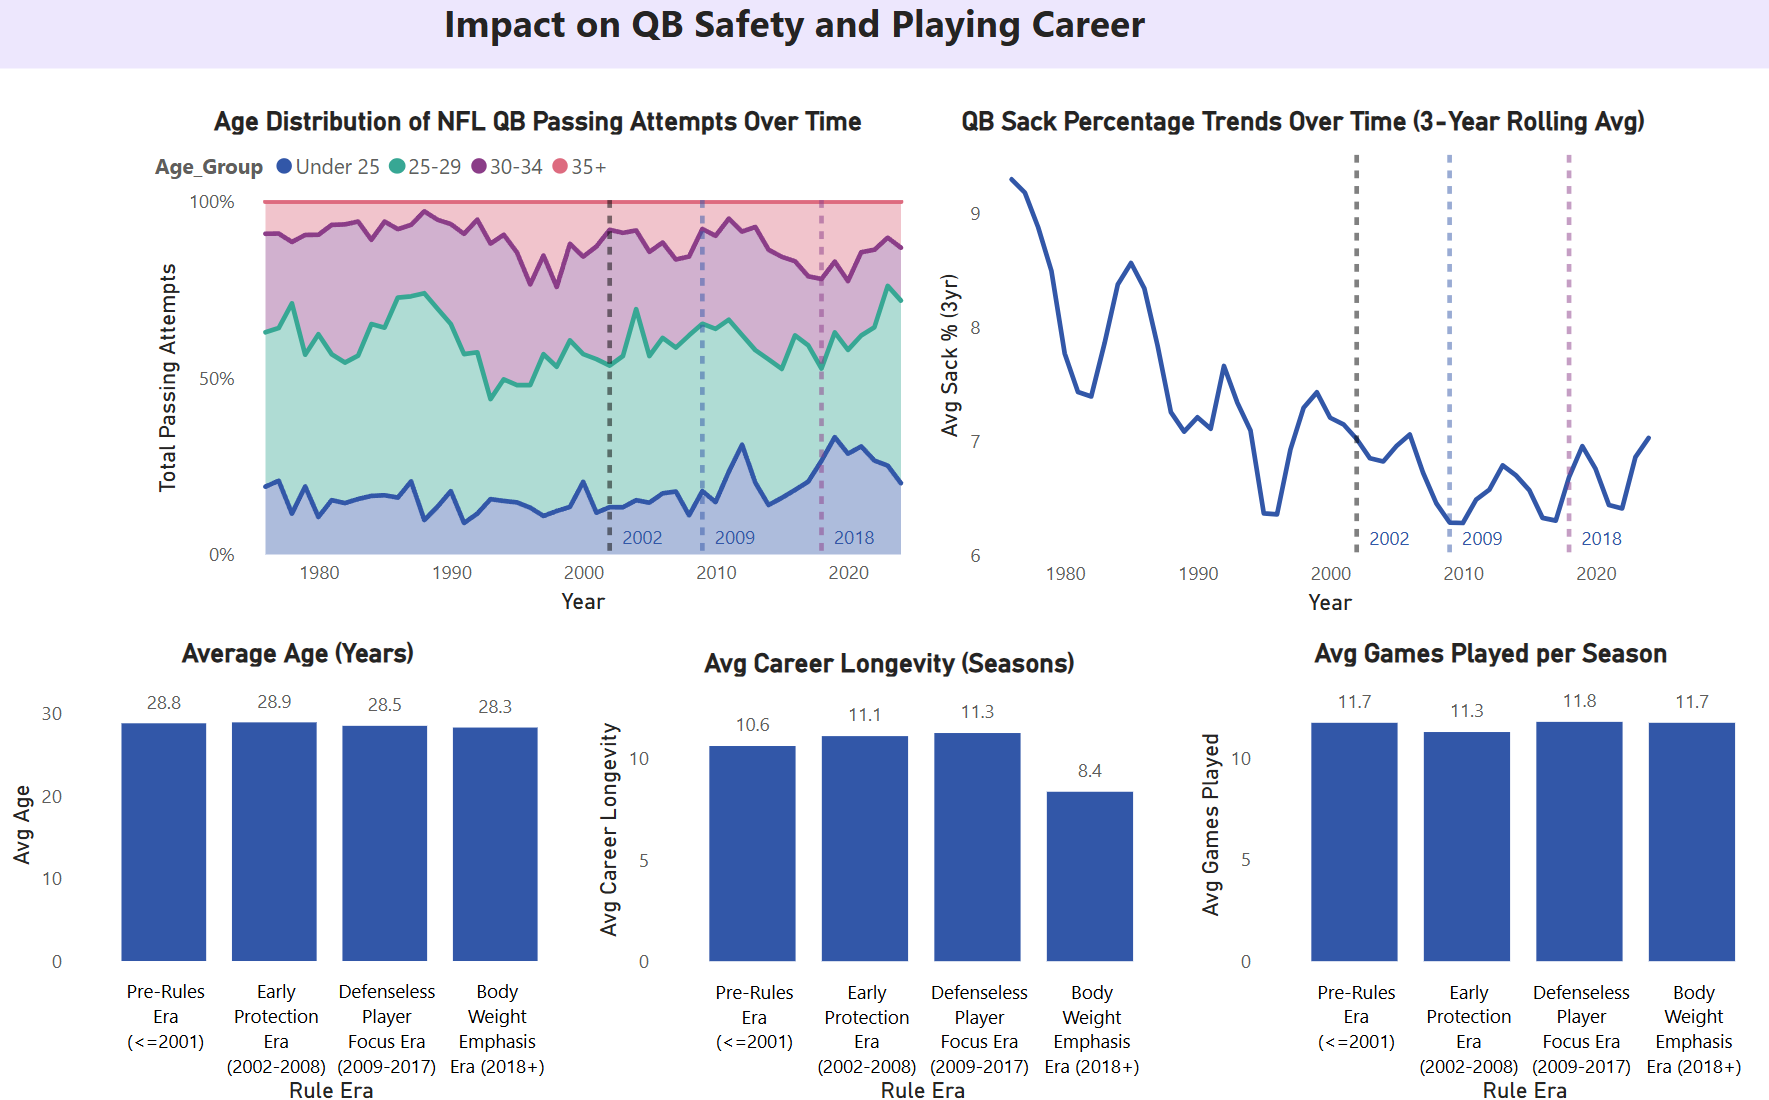

The page's visual inventory and layout, read from the dashboard file:
{"tool":"powerbi","page":{"name":"Safety & Longevity Deep Dive","canvas":[1280,720],"ordinal":4},"visuals":[{"type":"lineChart","title":"QB Sack Percentage Trends Over Time (3-Year Rolling Avg)","fields":{"Y":["pass_cleaned.Rolling 3yr Avg Sack %"],"Category":["pass_cleaned.Year"]},"box":[214.9,388.2,479.9,331.7],"z":0},{"type":"hundredPercentStackedAreaChart","title":"Age Distribution of NFL QB Passing Attempts Over Time","fields":{"Category":["pass_cleaned.Year"],"Y":["pass_cleaned.Total Passing Attempts"],"Series":["pass_cleaned.Age_Group"]},"box":[707.7,388.2,501.7,331.7],"z":1000},{"type":"slicer","fields":{"Values":["pass_cleaned.Age_Group"]},"box":[6.4,118.1,130.9,69.9],"z":2000},{"type":"clusteredColumnChart","title":"Average Age (Years)","fields":{"Category":["pass_cleaned.Rule_Era"],"Y":["pass_cleaned.Avg Age"]},"box":[150.1,66.7,376.6,297.7],"z":3000},{"type":"clusteredColumnChart","title":"Avg Career Longevity (Seasons)","fields":{"Category":["pass_cleaned.Rule_Era"],"Y":["pass_cleaned.Avg Career Longevity"]},"box":[526.8,66.7,376.6,297.7],"z":4000},{"type":"clusteredColumnChart","title":"Avg Games Played per Season","fields":{"Category":["pass_cleaned.Rule_Era"],"Y":["pass_cleaned.Avg Games Played"]},"box":[903.4,62.2,376.6,297.7],"z":5000},{"type":"textbox","box":[0,0,1280,50.7],"z":6000}]}

Visuals, with their boxes on the page's 1280x720 design canvas (x1, y1, x2, y2). These are canvas units, not pixel positions in the 1769x1100 screenshot, which may show the page scaled, cropped or inside an application window:
"QB Sack Percentage Trends Over Time (3-Year Rolling Avg)" lineChart: <bbox>215, 388, 695, 720</bbox>
"Age Distribution of NFL QB Passing Attempts Over Time" hundredPercentStackedAreaChart: <bbox>708, 388, 1209, 720</bbox>
slicer - pass_cleaned.Age_Group: <bbox>6, 118, 137, 188</bbox>
"Average Age (Years)" clusteredColumnChart: <bbox>150, 67, 527, 364</bbox>
"Avg Career Longevity (Seasons)" clusteredColumnChart: <bbox>527, 67, 903, 364</bbox>
"Avg Games Played per Season" clusteredColumnChart: <bbox>903, 62, 1280, 360</bbox>
textbox: <bbox>0, 0, 1280, 51</bbox>
